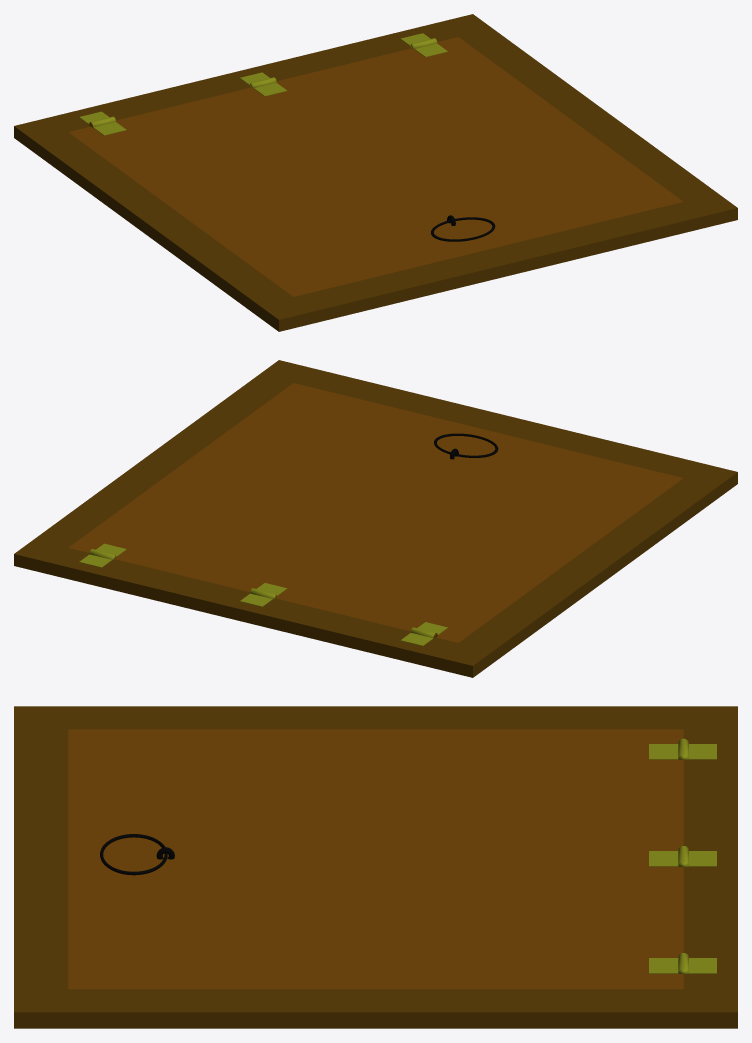
The model's file is trapdoor.fbx.
3 views of the same model, one above another, from view 1: azimuth 30°, elevation 25°; view 2: azimuth 150°, elevation 25°; view 3: azimuth 270°, elevation 25° (orthographic). The views are drawn at different scales.
Parts seen in each view (by area): view 1: Cube.004, Cube.002; view 2: Cube.004, Cube.002; view 3: Cube.004, Cube.002, Torus.001.
Boxes of the visible parts, x1,y1,x2,y2 form: Cube.004: [68, 37, 683, 296]; Cube.002: [14, 14, 737, 331]; Cube.004: [68, 383, 683, 642]; Cube.002: [14, 360, 737, 677]; Cube.004: [68, 729, 683, 989]; Cube.002: [14, 706, 737, 1028]; Torus.001: [100, 834, 167, 875].
Size of the model in its own units: 200 by 8.27 by 200.
